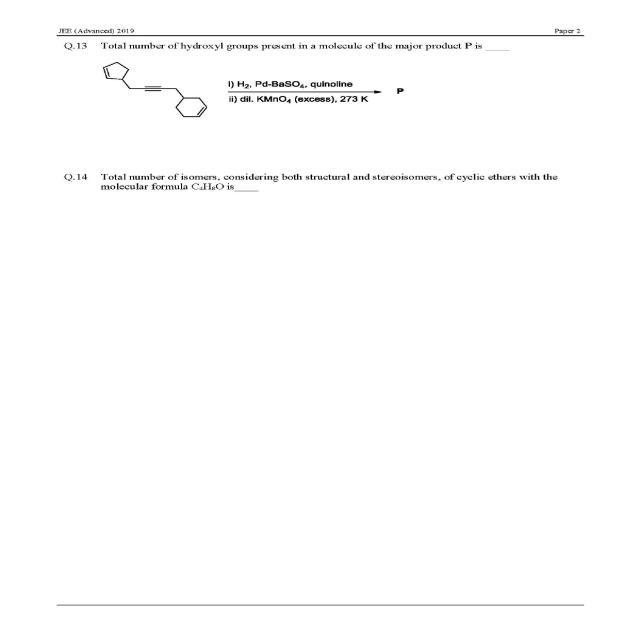Answer_Block: (47, 57, 600, 149)
Question_Answer_Block: (47, 37, 600, 149), (47, 168, 600, 225)
Question_Block: (47, 168, 600, 225), (47, 37, 600, 57)
Question_Paper_Area: (47, 37, 600, 596)
